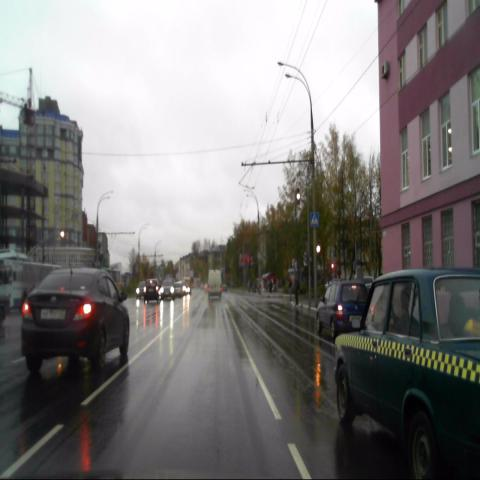5_19_1: (310, 211, 318, 226)
